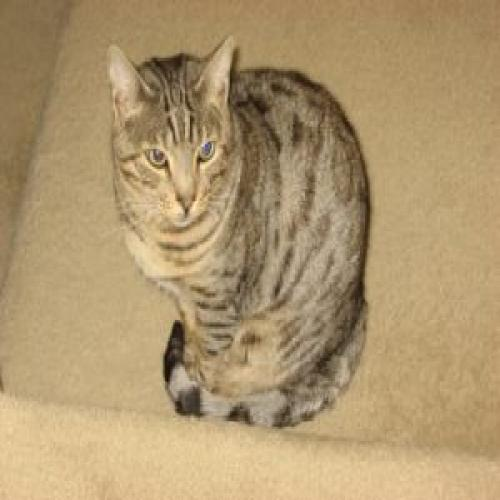bengal: (102, 31, 250, 247)
